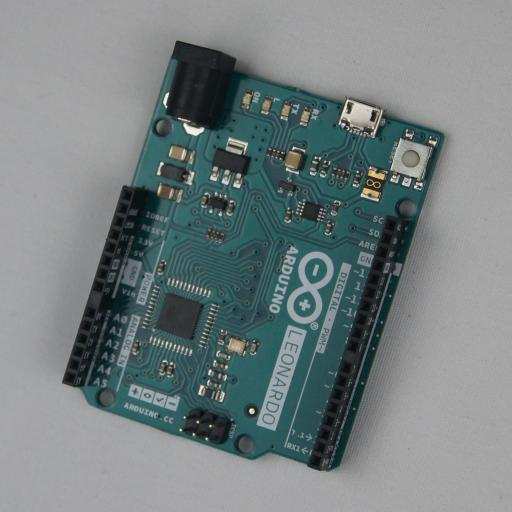Arduino Leonardo: (62, 40, 446, 472)
